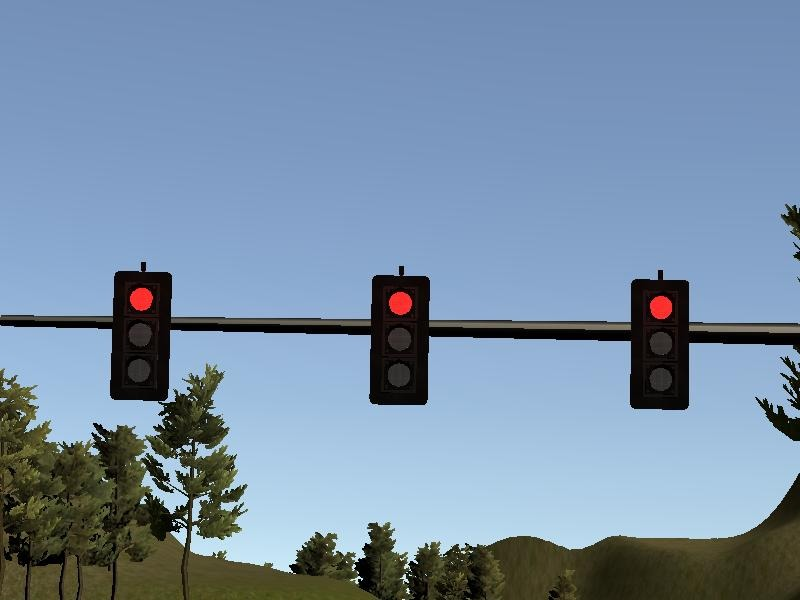red: (112, 271, 171, 400), (630, 279, 689, 408), (370, 275, 429, 404)
